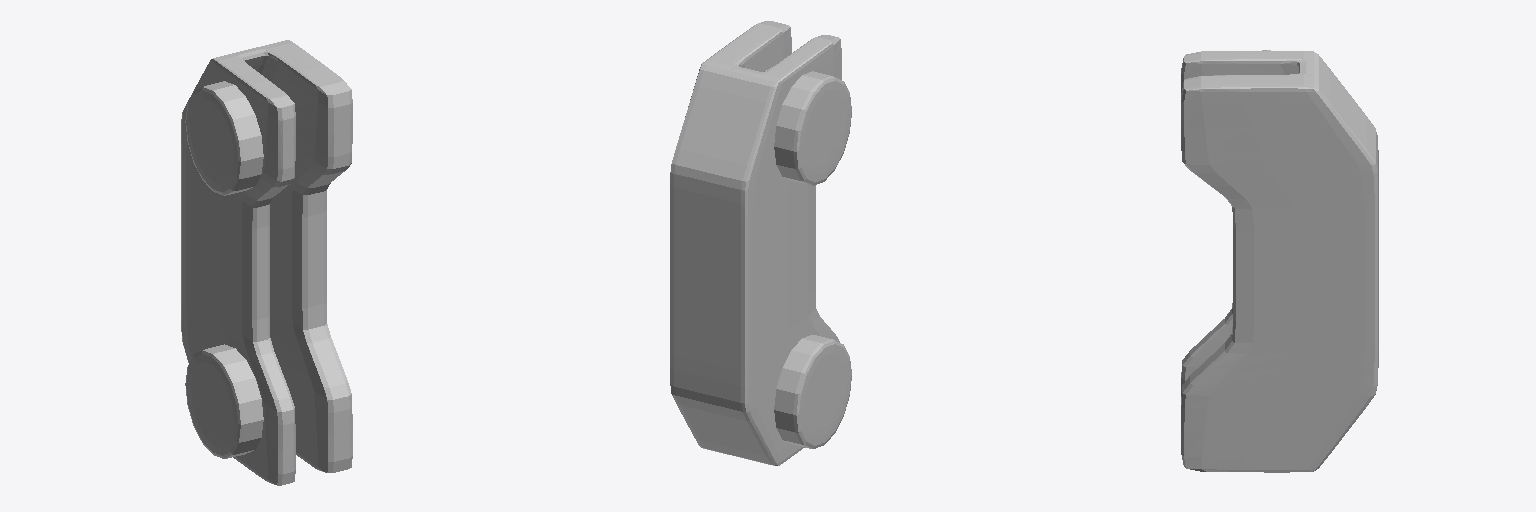
The model's file is SuspensionRB_Aston_Martin_DB9.obj.
The picture shows the model from 3 angles: view 1: azimuth 30°, elevation 25°; view 2: azimuth 150°, elevation 25°; view 3: azimuth 270°, elevation 25°; orthographic projection.
Visible parts, largest first — view 1: Object_#5.001_Object_#5.002; view 2: Object_#5.001_Object_#5.002; view 3: Object_#5.001_Object_#5.002.
Boxes of the visible parts, x1=… form: Object_#5.001_Object_#5.002: x1=181, y1=40, x2=352, y2=485; Object_#5.001_Object_#5.002: x1=670, y1=21, x2=851, y2=465; Object_#5.001_Object_#5.002: x1=1181, y1=50, x2=1378, y2=472.
Bounding box in the file's own units: 0.0629 × 0.2286 × 0.1059.